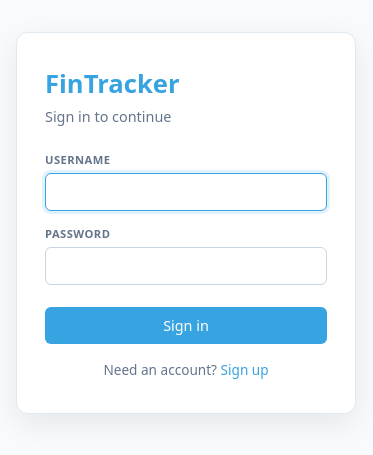
Test: LoginPage › shows an error and stays put when login fails
In the field labelled "Username": x=186, y=192 left=45, top=173, right=327, bottom=211, type "admin"
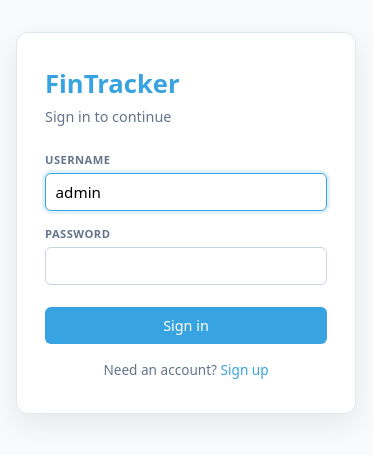
In the password field labelled "Password": x=186, y=266 left=45, top=247, right=327, bottom=285, type "wrong"
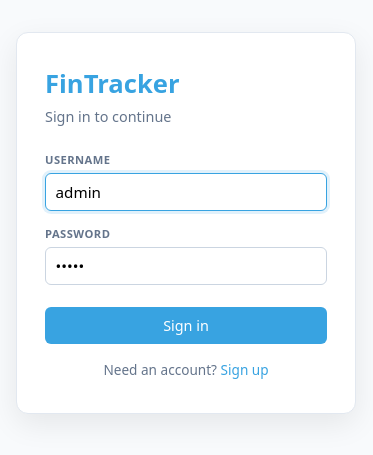
Click the button "Sign in": x=186, y=326 left=45, top=308, right=327, bottom=344
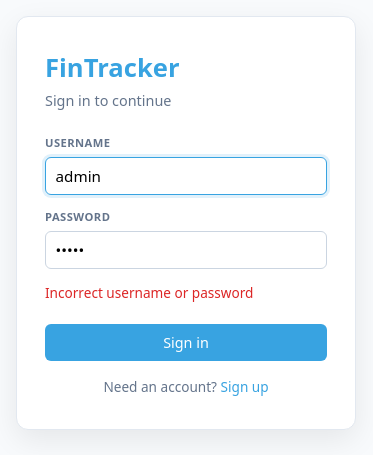
Result: the text "Incorrect username or password" is shown at left=45, top=283, right=254, bottom=302
